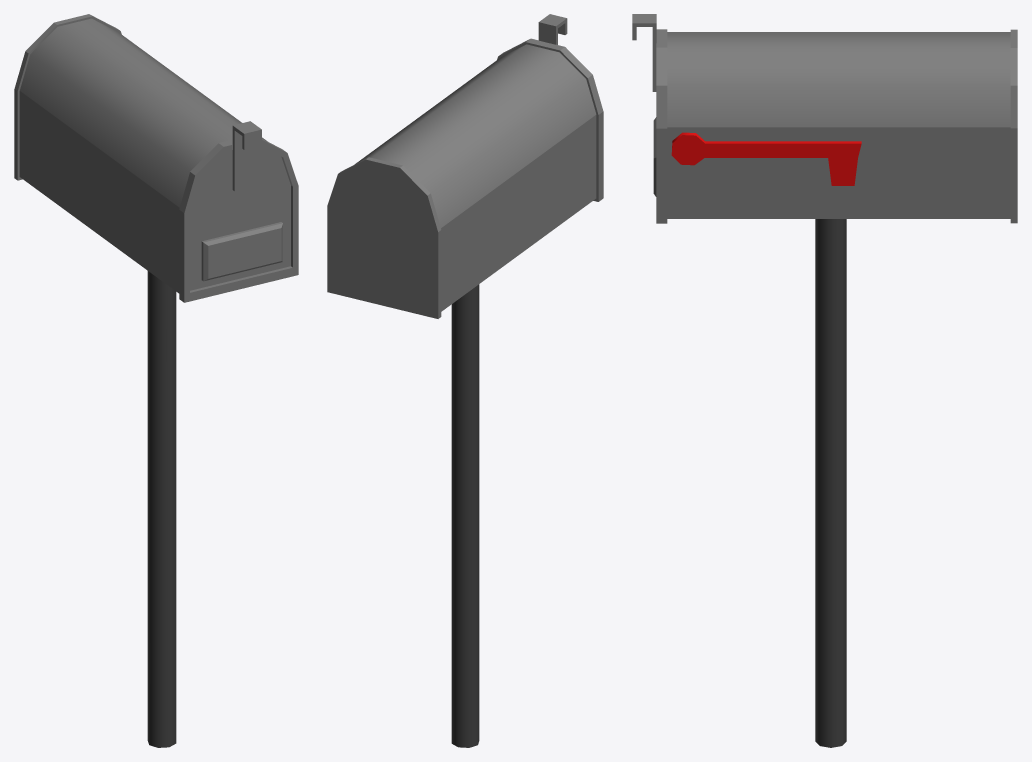
File: SM_mailbox_02.fbx
3 renders of one model, left to right at view 1: azimuth 30°, elevation 25°; view 2: azimuth 150°, elevation 25°; view 3: azimuth 270°, elevation 25°, orthographic. The views are drawn at different scales.
Visible parts, largest first — view 1: Cylinder006; view 2: Cylinder006; view 3: Cylinder006.
Part boxes in pixels (x1,y1,x2,y2): Cylinder006: [14, 14, 298, 747]; Cylinder006: [327, 14, 603, 747]; Cylinder006: [632, 14, 1017, 747].
Bounding box in the file's own units: 9.06 × 49.58 × 23.98.
